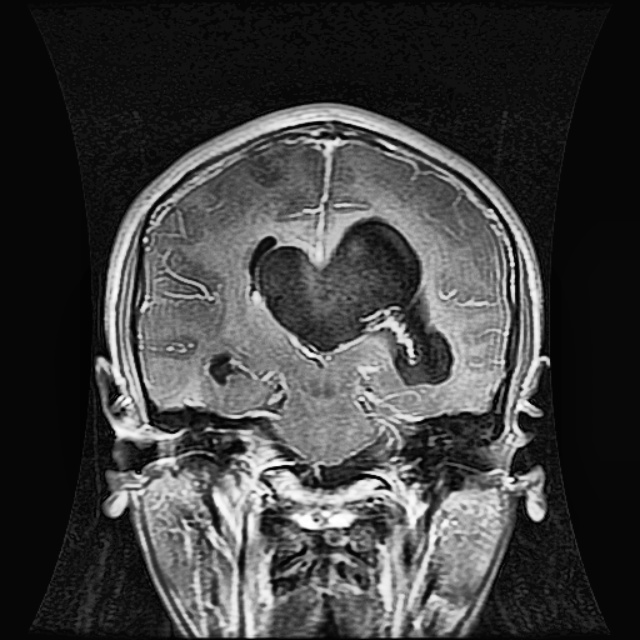Meningioma: (243, 210, 457, 389)
